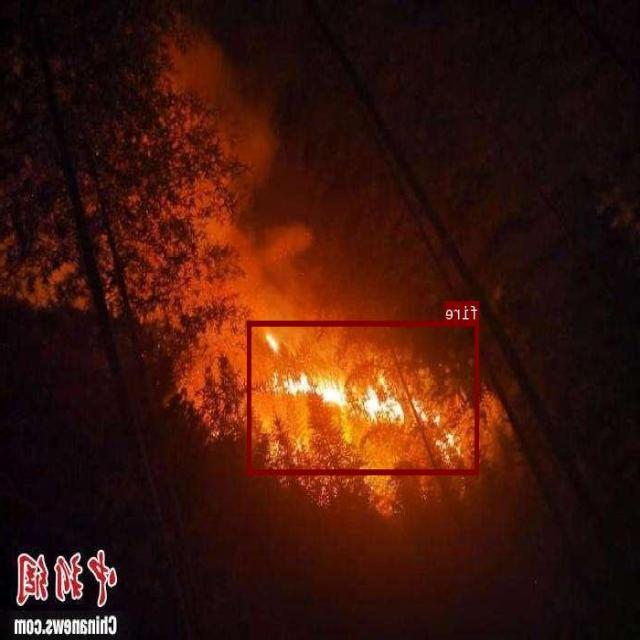fire: (249, 320, 479, 474)
